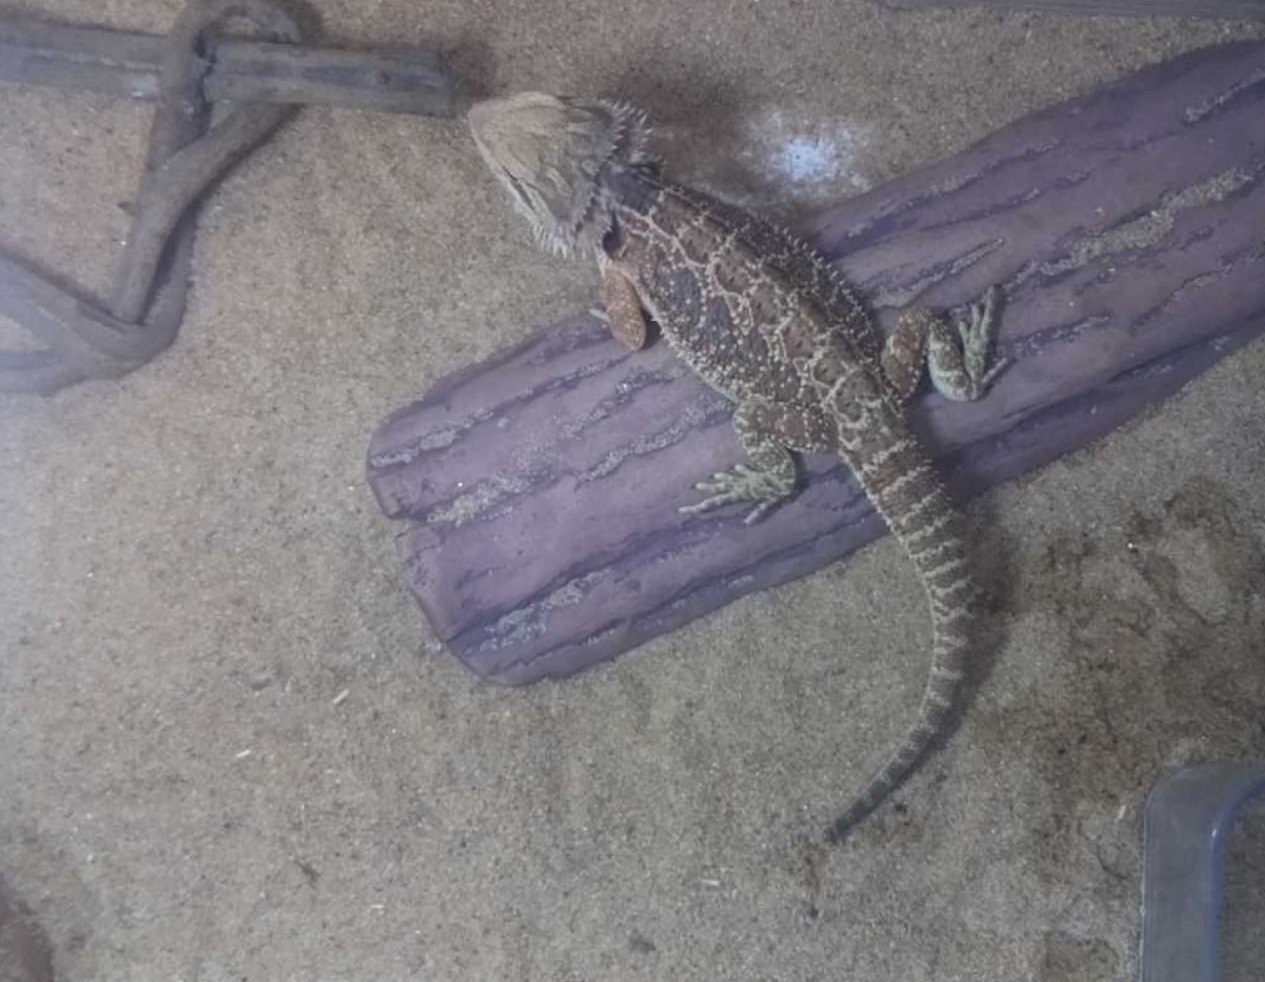bearded: (464, 83, 1026, 848)
